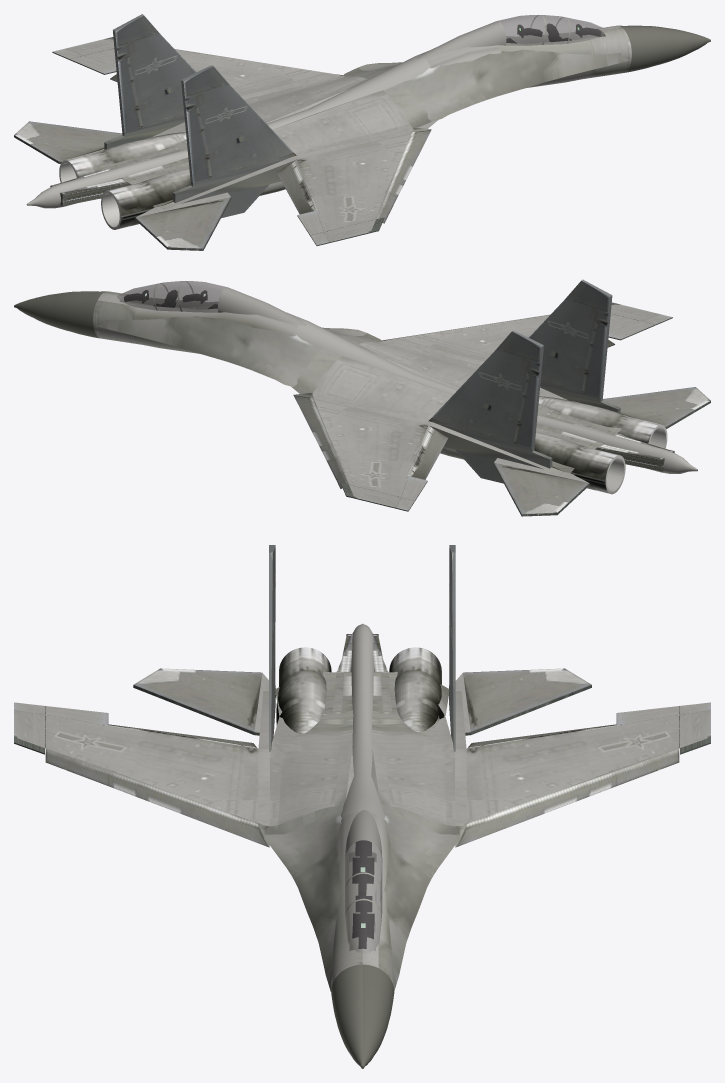
File: war-plane.glb
The picture shows the model from 3 angles, top to bottom: view 1: azimuth 30°, elevation 25°; view 2: azimuth 150°, elevation 25°; view 3: azimuth 270°, elevation 25°; orthographic projection. The views are drawn at different scales.
Parts seen in each view (by area): view 1: Cube_12, Plane.001_4, Cylinder_7, Plane.002_3, Cylinder.001_6, Cylinder.002_5; view 2: Cube_12, Plane.001_4, Cylinder_7, Plane.002_3, Cylinder.001_6, Cylinder.002_5; view 3: Cube_12, Cylinder_7, Plane.002_3, Cylinder.001_6, Cylinder.002_5, Plane.001_4.
Boxes of the visible parts, x1,y1,x2,y2 form: Cube_12: (50, 37, 628, 245); Plane.001_4: (104, 14, 296, 218); Cylinder_7: (26, 25, 710, 208); Plane.002_3: (14, 121, 231, 250); Cylinder.001_6: (59, 132, 190, 229); Cylinder.002_5: (416, 15, 606, 58); Cube_12: (97, 302, 674, 511); Plane.001_4: (428, 279, 620, 483); Cylinder_7: (14, 291, 697, 473); Plane.002_3: (493, 387, 710, 516); Cylinder.001_6: (534, 396, 667, 494); Cylinder.002_5: (117, 281, 306, 325); Cube_12: (14, 634, 710, 991); Cylinder_7: (331, 623, 394, 1068); Plane.002_3: (133, 668, 591, 735); Cylinder.001_6: (276, 647, 444, 733); Cylinder.002_5: (345, 810, 382, 953); Plane.001_4: (269, 545, 455, 751).
Size of the model in its own units: 29.86 by 6.48 by 20.02.
Materials: 6 (2 with a texture image).
